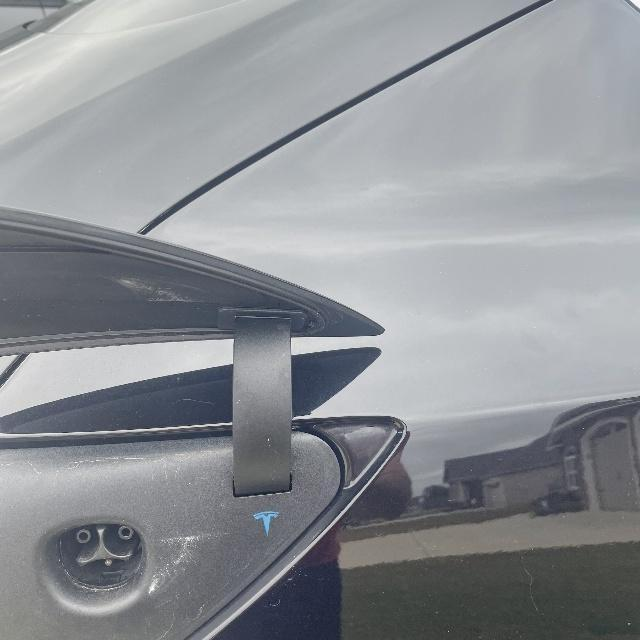Tesla Model-S-: (19, 513, 177, 626)
